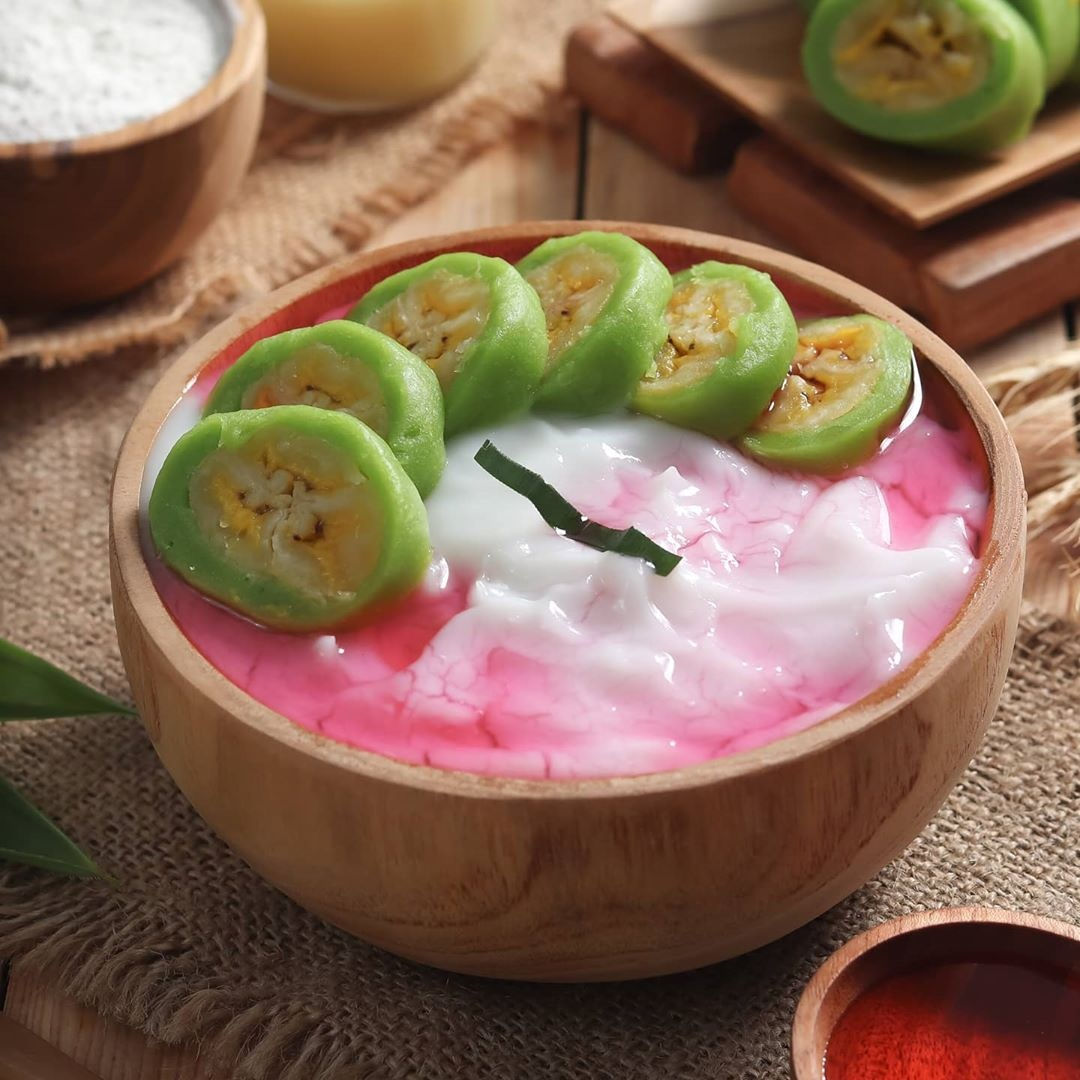pisang_ijo: (189, 399, 429, 657)
